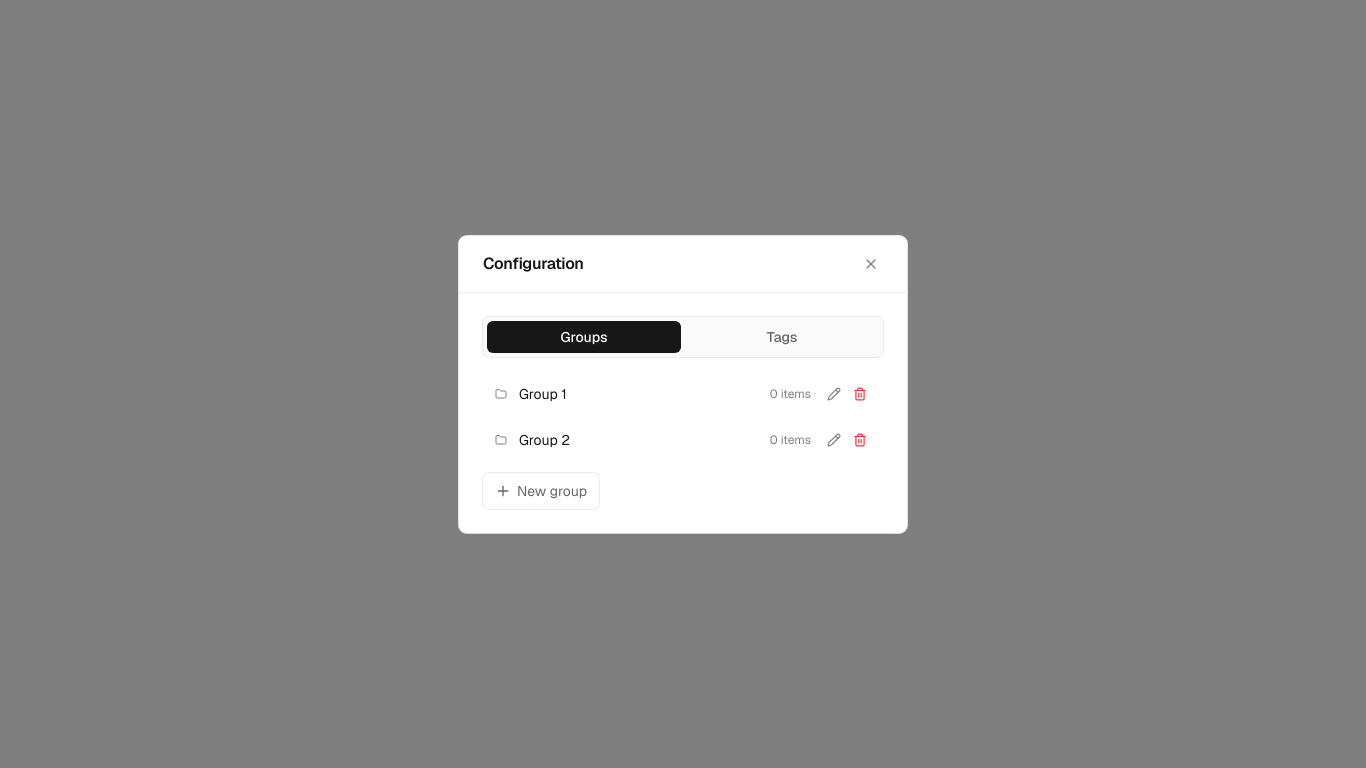
Test: ConfigurationModal › edit item › shows edit form when Edit is clicked
Click the button named "Edit Group 1" at [834, 394], box [823,382,845,404]
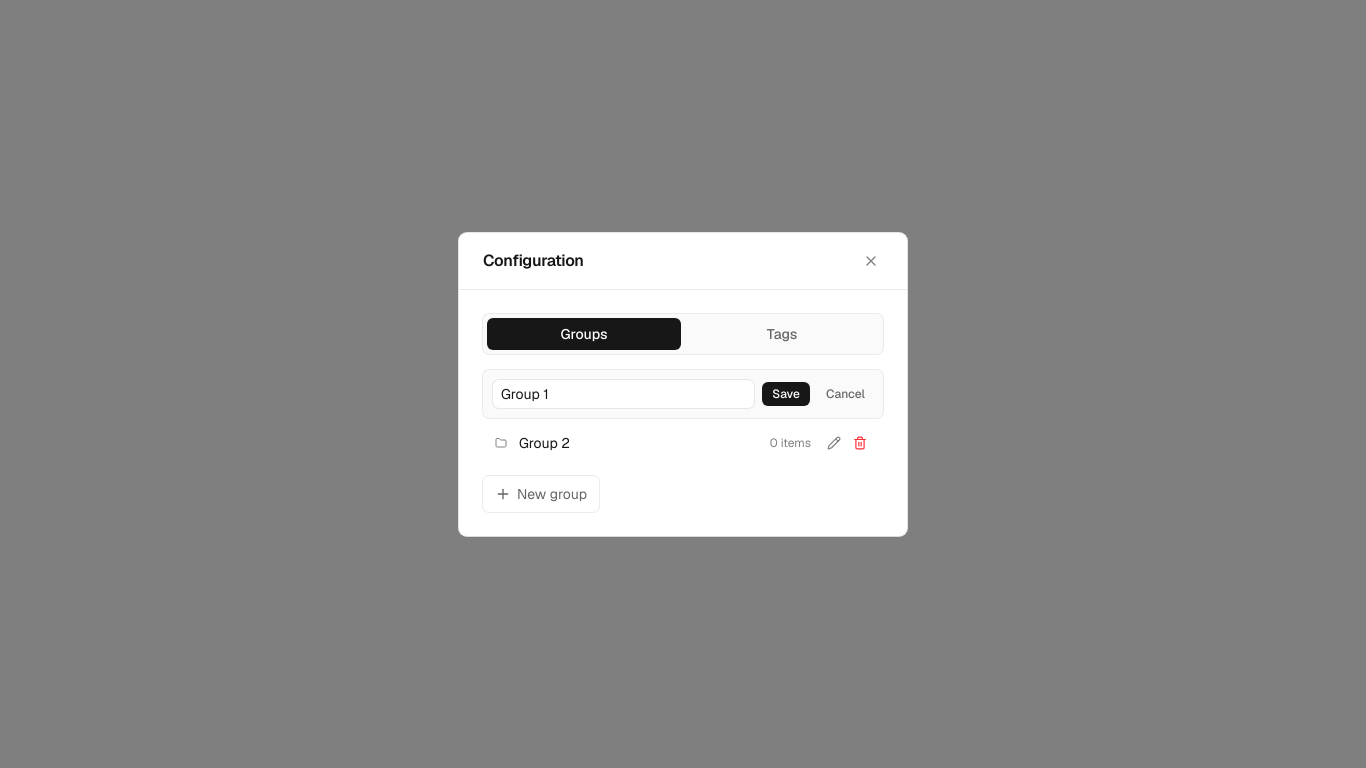
Expected: the button "Save" is shown, [762,382,810,406]
Expected: the button "Cancel" is shown, [818,382,873,406]
